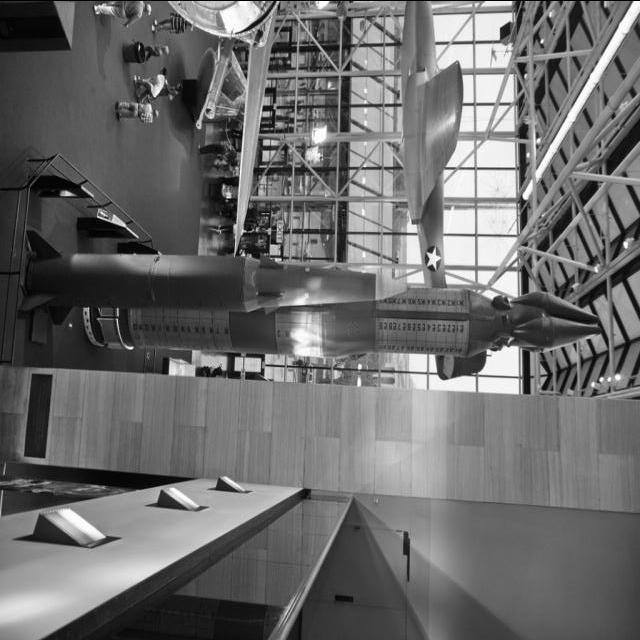missile: (24, 247, 412, 324)
